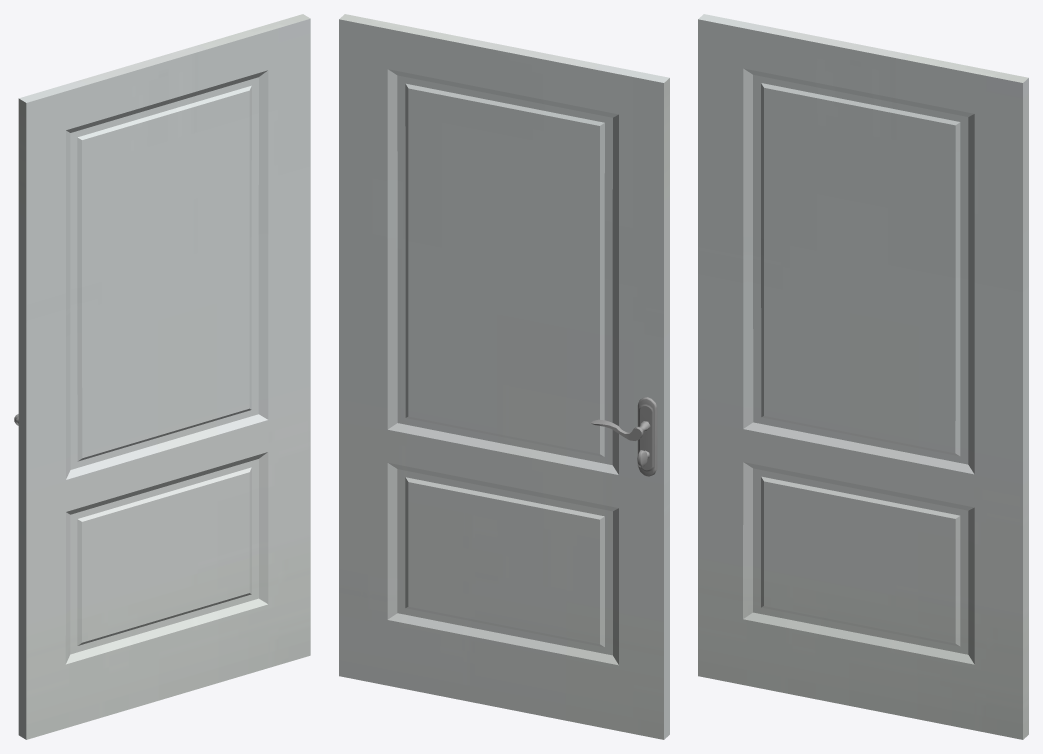
File: men05.fbx
The picture shows the model from 3 angles, left to right: view 1: azimuth 30°, elevation 25°; view 2: azimuth 150°, elevation 25°; view 3: azimuth 330°, elevation 25°; orthographic projection. The views are drawn at different scales.
Parts seen in each view (by area): view 1: men05; view 2: men05; view 3: men05.
Part boxes in pixels (bbox=[...]): men05: bbox=[14, 14, 310, 739]; men05: bbox=[339, 14, 669, 739]; men05: bbox=[698, 14, 1028, 739].
Size of the model in its own units: 104 by 210 by 14.11.
